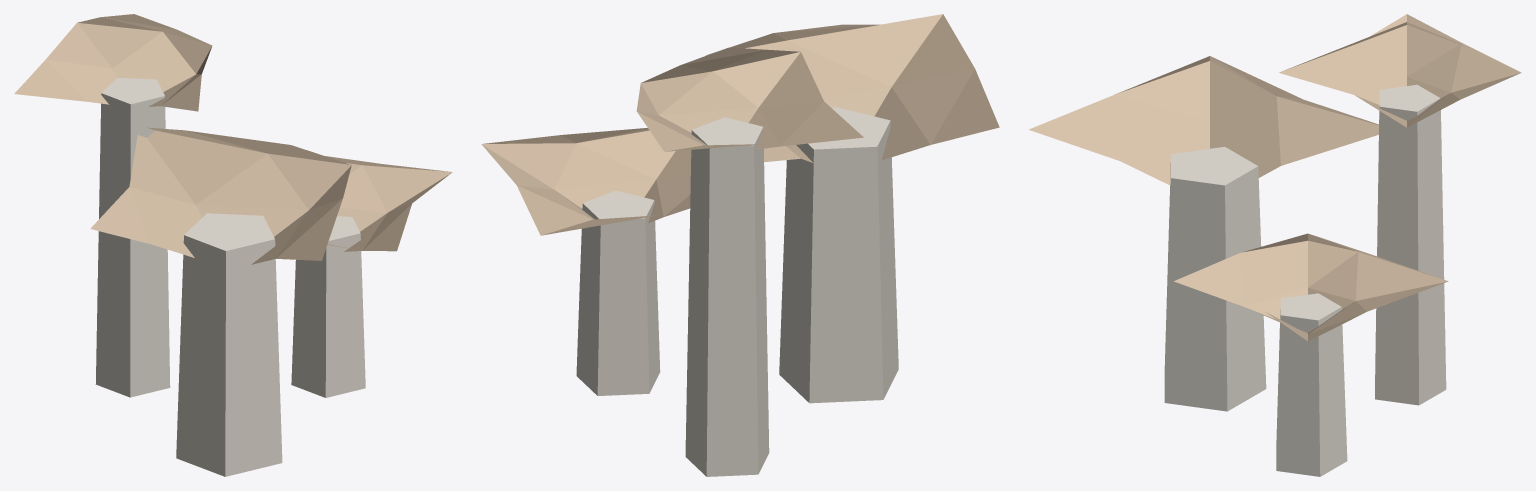
Rendered from mushroom_v05.glb.
3 renders of one model, left to right at view 1: azimuth 30°, elevation 25°; view 2: azimuth 150°, elevation 25°; view 3: azimuth 270°, elevation 25°, orthographic. The views are drawn at different scales.
Visible parts, largest first — view 1: lod0; view 2: lod0; view 3: lod0.
Part boxes in pixels (x1,y1,x2,y2): lod0: [14, 14, 452, 476]; lod0: [481, 14, 999, 476]; lod0: [1028, 14, 1521, 476].
Size of what is drawn, in the model's own units: 0.5035 by 0.429 by 0.5218.
